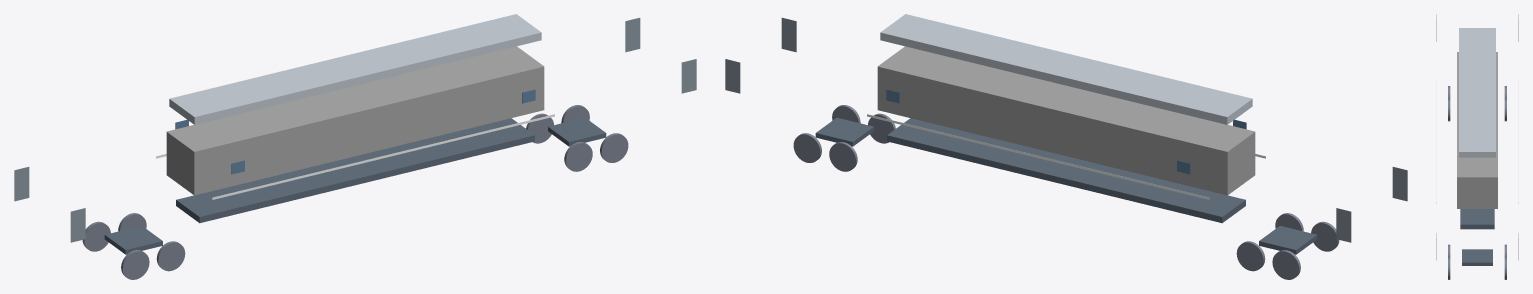
File: LHB_EOG.glb
3 views of the same model, side by side, from view 1: azimuth 30°, elevation 25°; view 2: azimuth 150°, elevation 25°; view 3: azimuth 270°, elevation 25° (orthographic). The views are drawn at different scales.
Parts seen in each view (by area): view 1: LHB_EOG; view 2: LHB_EOG; view 3: LHB_EOG.
Part boxes in pixels (left/top/right/bottom): LHB_EOG: left=14, top=14, right=696, bottom=279; LHB_EOG: left=725, top=14, right=1407, bottom=279; LHB_EOG: left=1436, top=14, right=1518, bottom=279.
Bounding box in the file's own units: 21.04 × 4.53 × 3.29.
